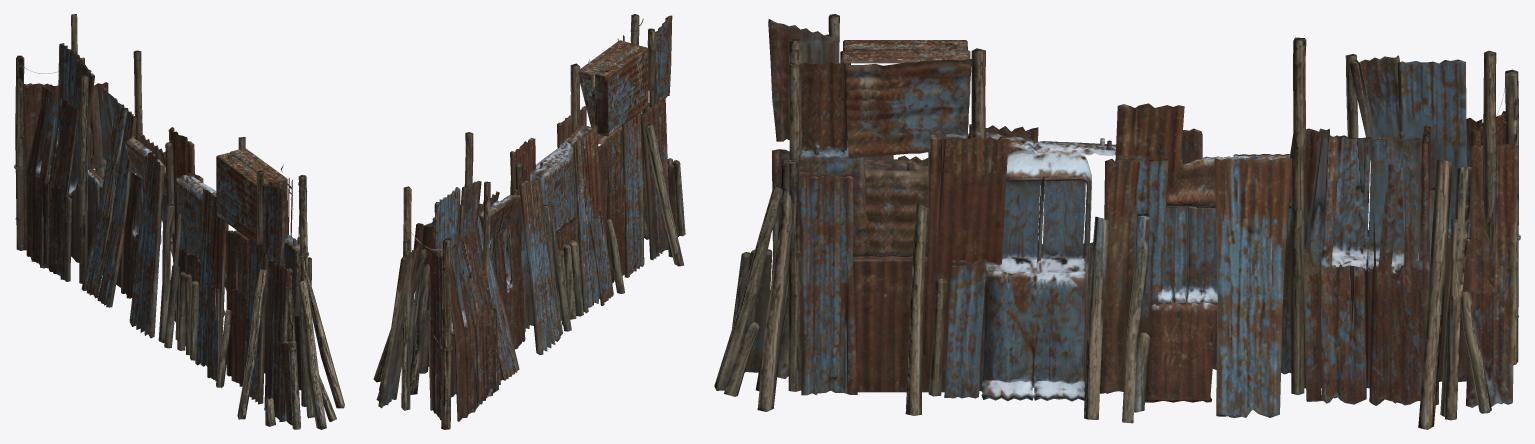
3 views of the same model, side by side, from view 1: azimuth 30°, elevation 25°; view 2: azimuth 150°, elevation 25°; view 3: azimuth 270°, elevation 25° (orthographic). The views are drawn at different scales.
Parts seen in each view (by area): view 1: b152643f_de1f_4a03_851d_1349ca20c58c; view 2: b152643f_de1f_4a03_851d_1349ca20c58c; view 3: b152643f_de1f_4a03_851d_1349ca20c58c.
Boxes of the visible parts, x1,y1,x2,y2 form: b152643f_de1f_4a03_851d_1349ca20c58c: (14, 14, 344, 429); b152643f_de1f_4a03_851d_1349ca20c58c: (373, 14, 685, 429); b152643f_de1f_4a03_851d_1349ca20c58c: (714, 14, 1520, 429).
Size of the model in its own units: 0.2456 by 0.5015 by 0.9995.
Materials: 1 (1 with a texture image).
